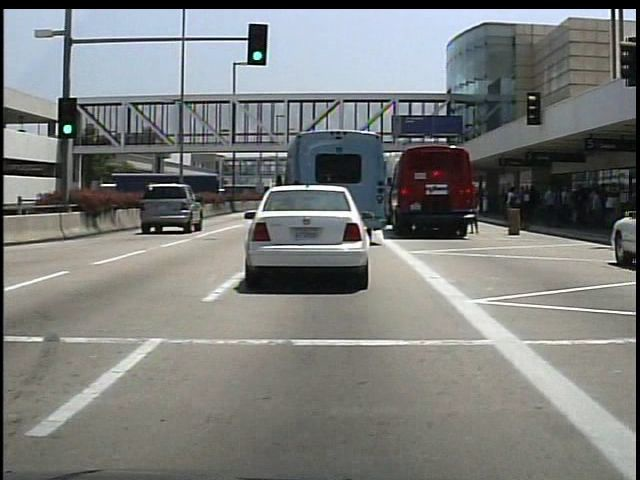person: (471, 181, 484, 236)
